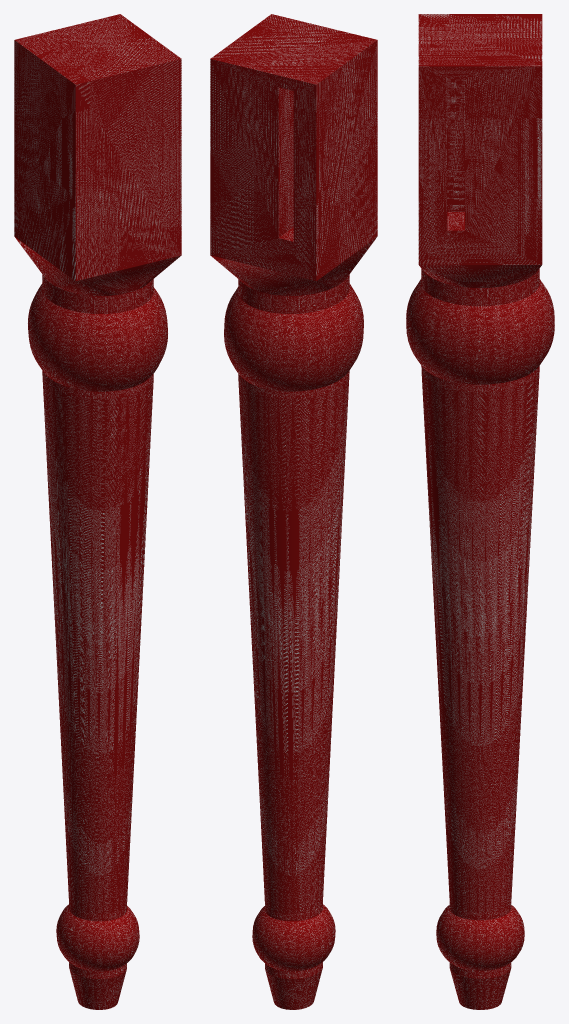
File: original-3.obj
3 views of the same model, side by side, from view 1: azimuth 30°, elevation 25°; view 2: azimuth 150°, elevation 25°; view 3: azimuth 270°, elevation 25° (orthographic).
Visible parts, largest first — view 1: Patte2/Patte12/mesh4/mesh4-geometry#mesh4-geometry; view 2: Patte2/Patte12/mesh4/mesh4-geometry#mesh4-geometry; view 3: Patte2/Patte12/mesh4/mesh4-geometry#mesh4-geometry.
Boxes of the visible parts, x1,y1,x2,y2 form: Patte2/Patte12/mesh4/mesh4-geometry#mesh4-geometry: [14, 14, 181, 1009]; Patte2/Patte12/mesh4/mesh4-geometry#mesh4-geometry: [210, 14, 377, 1009]; Patte2/Patte12/mesh4/mesh4-geometry#mesh4-geometry: [406, 14, 554, 1009].
Bounding box in the file's own units: 0.0688 × 0.5258 × 0.0737.
